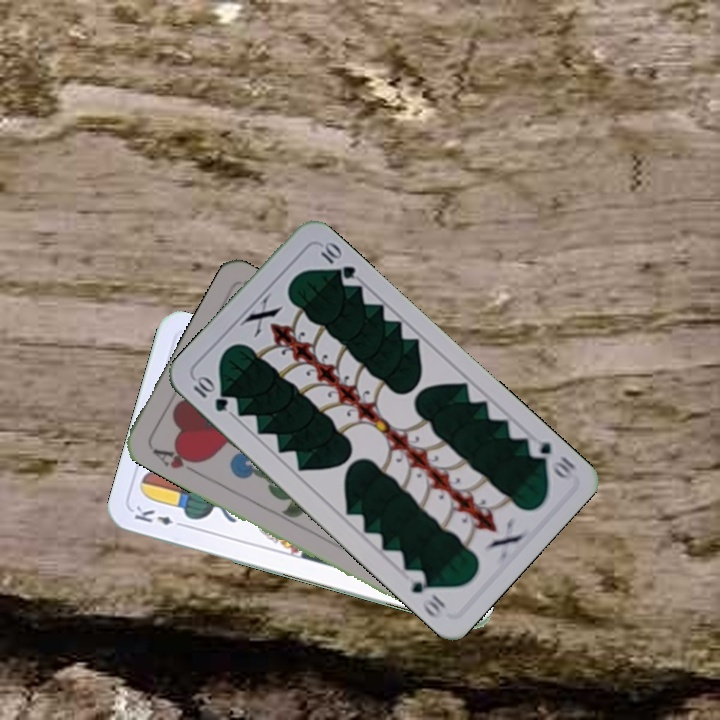EK: (130, 501, 189, 531)
G10: (523, 432, 579, 482), (189, 371, 231, 415)
HA: (148, 444, 205, 478)
